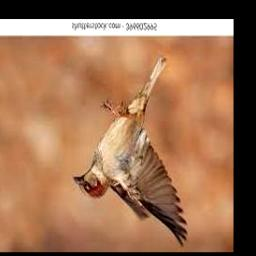Sparrow: (72, 57, 187, 248)
